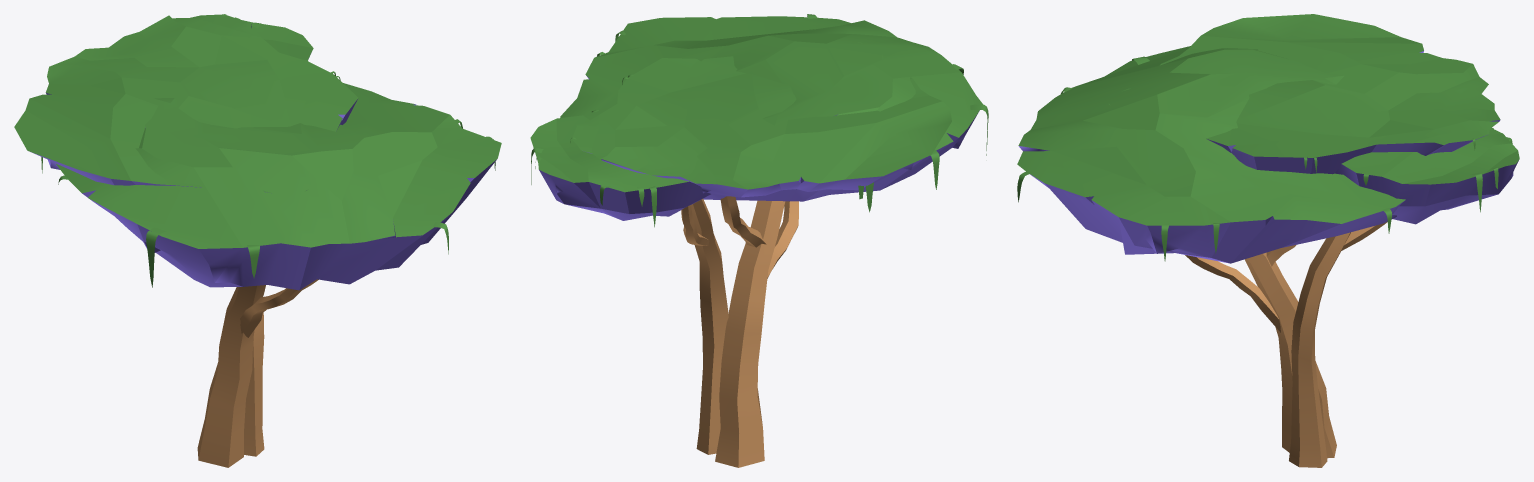
Rendered from tree_canopy_E.fbx.
The picture shows the model from 3 angles, left to right: view 1: azimuth 30°, elevation 25°; view 2: azimuth 150°, elevation 25°; view 3: azimuth 270°, elevation 25°; orthographic projection.
Parts seen in each view (by area): view 1: tree_E_canopy_A, tree_E_canopy_C, tree_E_canopy_trunks_A, tree_E_canopy_trunks_B, tree_E_canopy_B, tree_E_canopy_trunks_C; view 2: tree_E_canopy_C, tree_E_canopy_A, tree_E_canopy_trunks_A, tree_E_canopy_B, tree_E_canopy_trunks_B, tree_E_canopy_trunks_C, tree_E_canopy_trunks_D, tree_E_canopy_trunks_E; view 3: tree_E_canopy_A, tree_E_canopy_C, tree_E_canopy_B, tree_E_canopy_trunks_B, tree_E_canopy_trunks_A, tree_E_canopy_trunks_C.
Boxes of the visible parts, x1,y1,x2,y2 form: tree_E_canopy_A: [56, 83, 501, 290]; tree_E_canopy_C: [14, 14, 358, 193]; tree_E_canopy_trunks_A: [197, 285, 265, 467]; tree_E_canopy_trunks_B: [244, 312, 264, 456]; tree_E_canopy_B: [243, 20, 313, 61]; tree_E_canopy_trunks_C: [240, 279, 318, 337]; tree_E_canopy_C: [572, 42, 951, 197]; tree_E_canopy_A: [560, 16, 982, 201]; tree_E_canopy_trunks_A: [715, 200, 785, 467]; tree_E_canopy_B: [530, 108, 711, 220]; tree_E_canopy_trunks_B: [691, 199, 728, 454]; tree_E_canopy_trunks_C: [767, 201, 798, 278]; tree_E_canopy_trunks_D: [720, 196, 766, 247]; tree_E_canopy_trunks_E: [681, 205, 709, 245]; tree_E_canopy_A: [1017, 46, 1405, 263]; tree_E_canopy_C: [1109, 14, 1500, 174]; tree_E_canopy_B: [1335, 129, 1519, 224]; tree_E_canopy_trunks_B: [1289, 232, 1350, 467]; tree_E_canopy_trunks_A: [1245, 252, 1336, 458]; tree_E_canopy_trunks_C: [1185, 255, 1280, 332].
Size of the model in its own units: 630 by 553 by 711.
